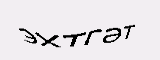Г: (83, 27, 101, 49)
Т: (61, 31, 86, 49), (122, 22, 137, 42)
Х: (35, 30, 64, 48)
Э: (15, 26, 37, 46)
Ә: (102, 24, 121, 46)
